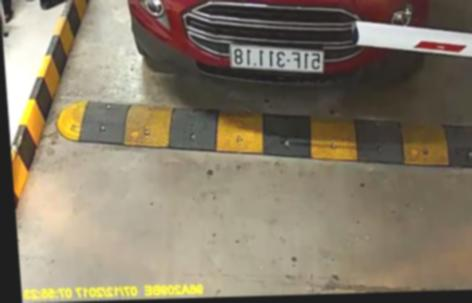License_Plate: (220, 43, 326, 77)
